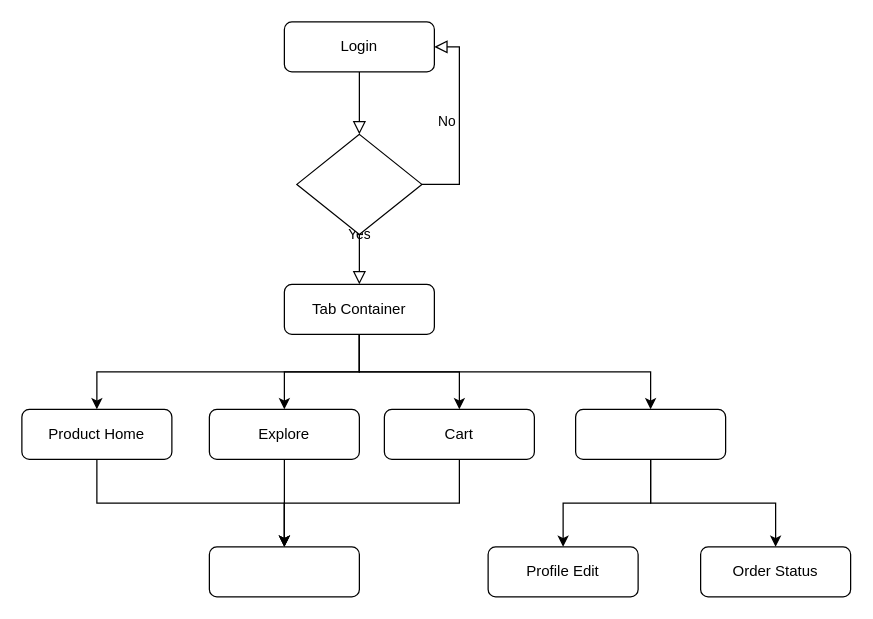
Some shapes in this 873 by 619 pixel diagram are drawn without their labels. The shapes that lost their labels are listed below. From the top down, each one's centre as x and y in pixels, then its label:
At pixel 359 183: "Success".
At pixel 650 433: "My Account".
At pixel 283 571: "Product Detail".
